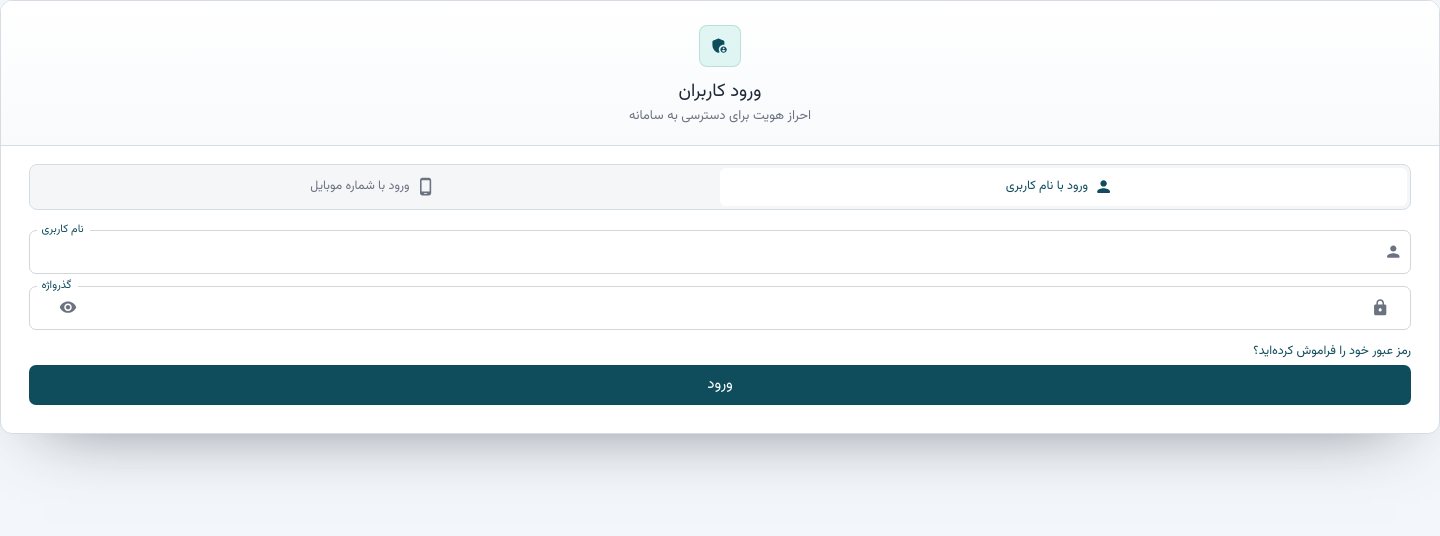
Login security validation › shows required validation errors when login fields are empty
Click the button "ورود".
click(720, 384)  # box [29, 364, 1411, 404]
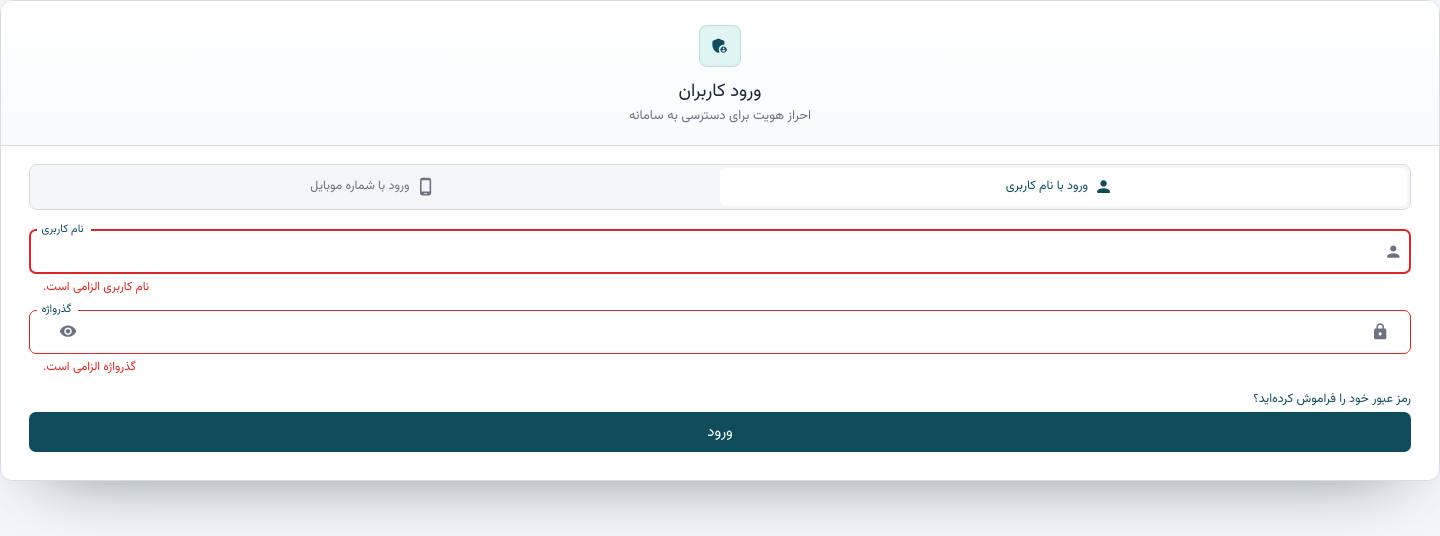
expect the text "نام کاربری الزامی است." is shown: met, box [43, 278, 149, 296]
expect the text "گذرواژه الزامی است." is shown: met, box [43, 358, 136, 376]
